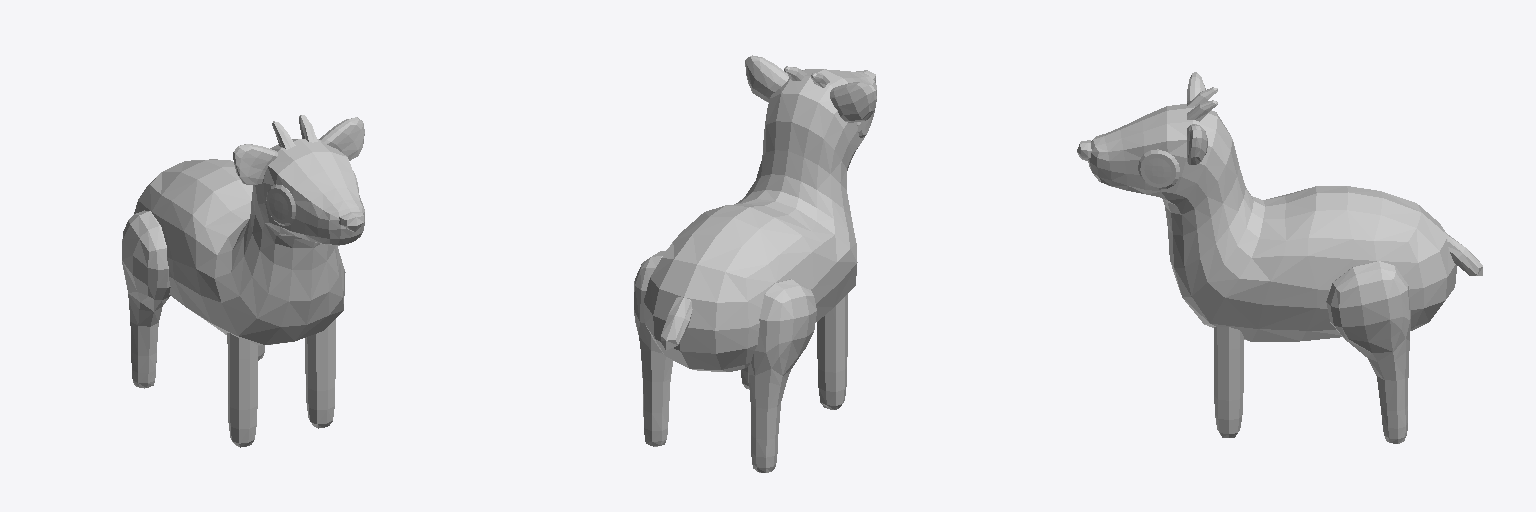
The model's file is Pudu_LOD1.obj.
The picture shows the model from 3 angles: view 1: azimuth 30°, elevation 25°; view 2: azimuth 150°, elevation 25°; view 3: azimuth 270°, elevation 25°; orthographic projection.
Visible parts, largest first — view 1: Mesh_Pudu_LOD1; view 2: Mesh_Pudu_LOD1; view 3: Mesh_Pudu_LOD1.
Part boxes in pixels (bbox=[...]): Mesh_Pudu_LOD1: bbox=[122, 115, 364, 447]; Mesh_Pudu_LOD1: bbox=[634, 55, 876, 472]; Mesh_Pudu_LOD1: bbox=[1077, 72, 1482, 443].
Size of the model in its own units: 0.5639 by 1.06 by 1.21.